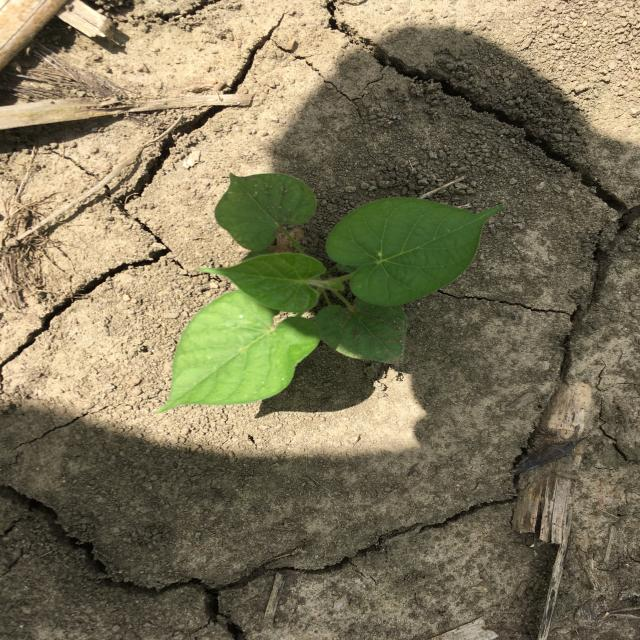MorningGlory: (156, 172, 504, 414)
